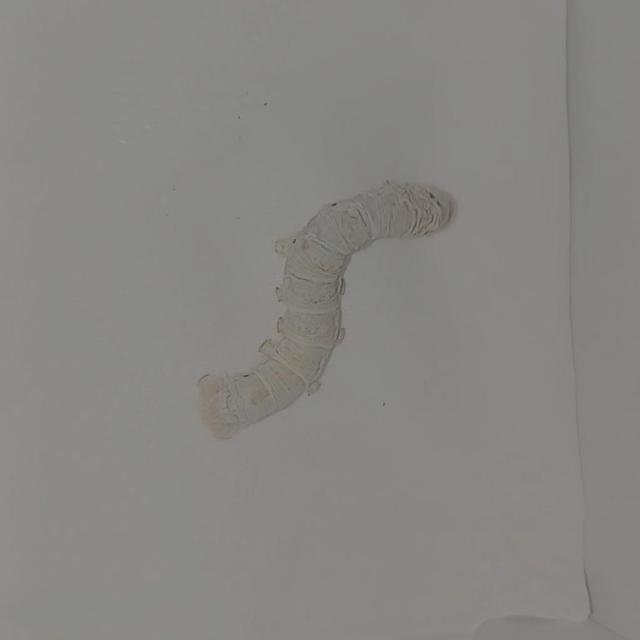Healthy: (163, 156, 472, 470)
